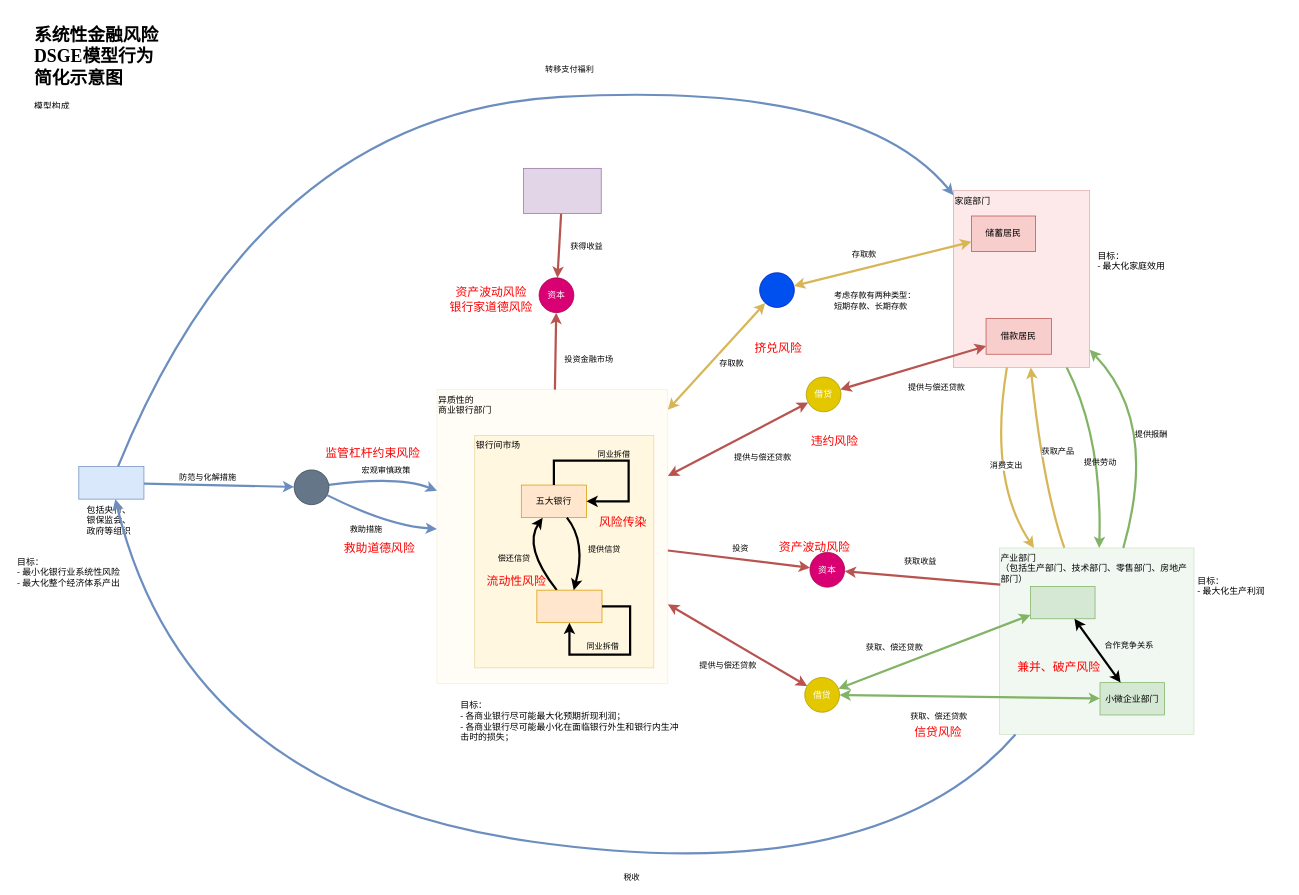
The diagram is 1299 pixels wide and 895 high, and some of its shapes have lost their labels. Each missing label, with the centre of its shape:
"中小银行" belongs at pixel 569 606.
"大型企业部门" belongs at pixel 1062 602.
"存款" belongs at pixel 776 289.
"对策" belongs at pixel 311 487.
"监管当局" belongs at pixel 111 482.
"金融市场" belongs at pixel 562 190.
